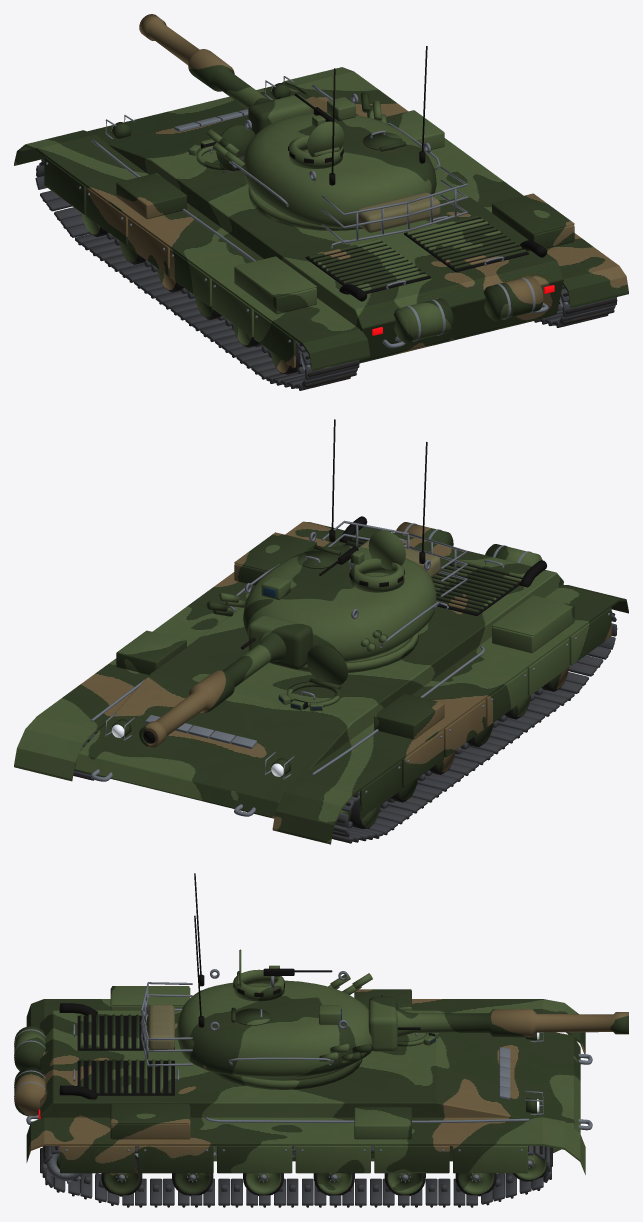
Rendered from Tank.glb.
3 views of the same model, one above another, from view 1: azimuth 30°, elevation 25°; view 2: azimuth 150°, elevation 25°; view 3: azimuth 270°, elevation 25° (orthographic). The views are drawn at different scales.
Parts seen in each view (by area): view 1: Tank_Body, Tank_Turret, Tank_Trim3, Tank_Trim, Tank_Trim4, Tank_Trim2, Tank_Interior; view 2: Tank_Body, Tank_Turret, Tank_Trim3, Tank_Trim, Tank_Trim4, Tank_Interior, Tank_Trim2; view 3: Tank_Body, Tank_Turret, Tank_Trim3, Tank_Trim2, Tank_Trim4.
Part boxes in pixels (x1=…): Tank_Body: x1=14, y1=67, x2=628, y2=371; Tank_Turret: x1=139, y1=14, x2=467, y2=243; Tank_Trim3: x1=46, y1=83, x2=574, y2=374; Tank_Trim: x1=35, y1=158, x2=359, y2=390; Tank_Trim4: x1=105, y1=76, x2=535, y2=335; Tank_Trim2: x1=81, y1=213, x2=617, y2=373; Tank_Interior: x1=188, y1=125, x2=255, y2=173; Tank_Body: x1=14, y1=521, x2=628, y2=844; Tank_Turret: x1=139, y1=419, x2=467, y2=747; Tank_Trim3: x1=82, y1=516, x2=609, y2=827; Tank_Trim: x1=332, y1=611, x2=617, y2=843; Tank_Trim4: x1=105, y1=523, x2=523, y2=779; Tank_Interior: x1=278, y1=645, x2=347, y2=711; Tank_Trim2: x1=73, y1=654, x2=587, y2=828; Tank_Body: x1=26, y1=987, x2=585, y2=1174; Tank_Turret: x1=140, y1=873, x2=628, y2=1089; Tank_Trim3: x1=14, y1=986, x2=592, y2=1196; Tank_Trim2: x1=40, y1=1146, x2=552, y2=1207; Tank_Trim4: x1=14, y1=1014, x2=543, y2=1157.
Bounding box in the file's own units: 15.68 × 12.08 × 27.77.
10 materials, 8 textured.
